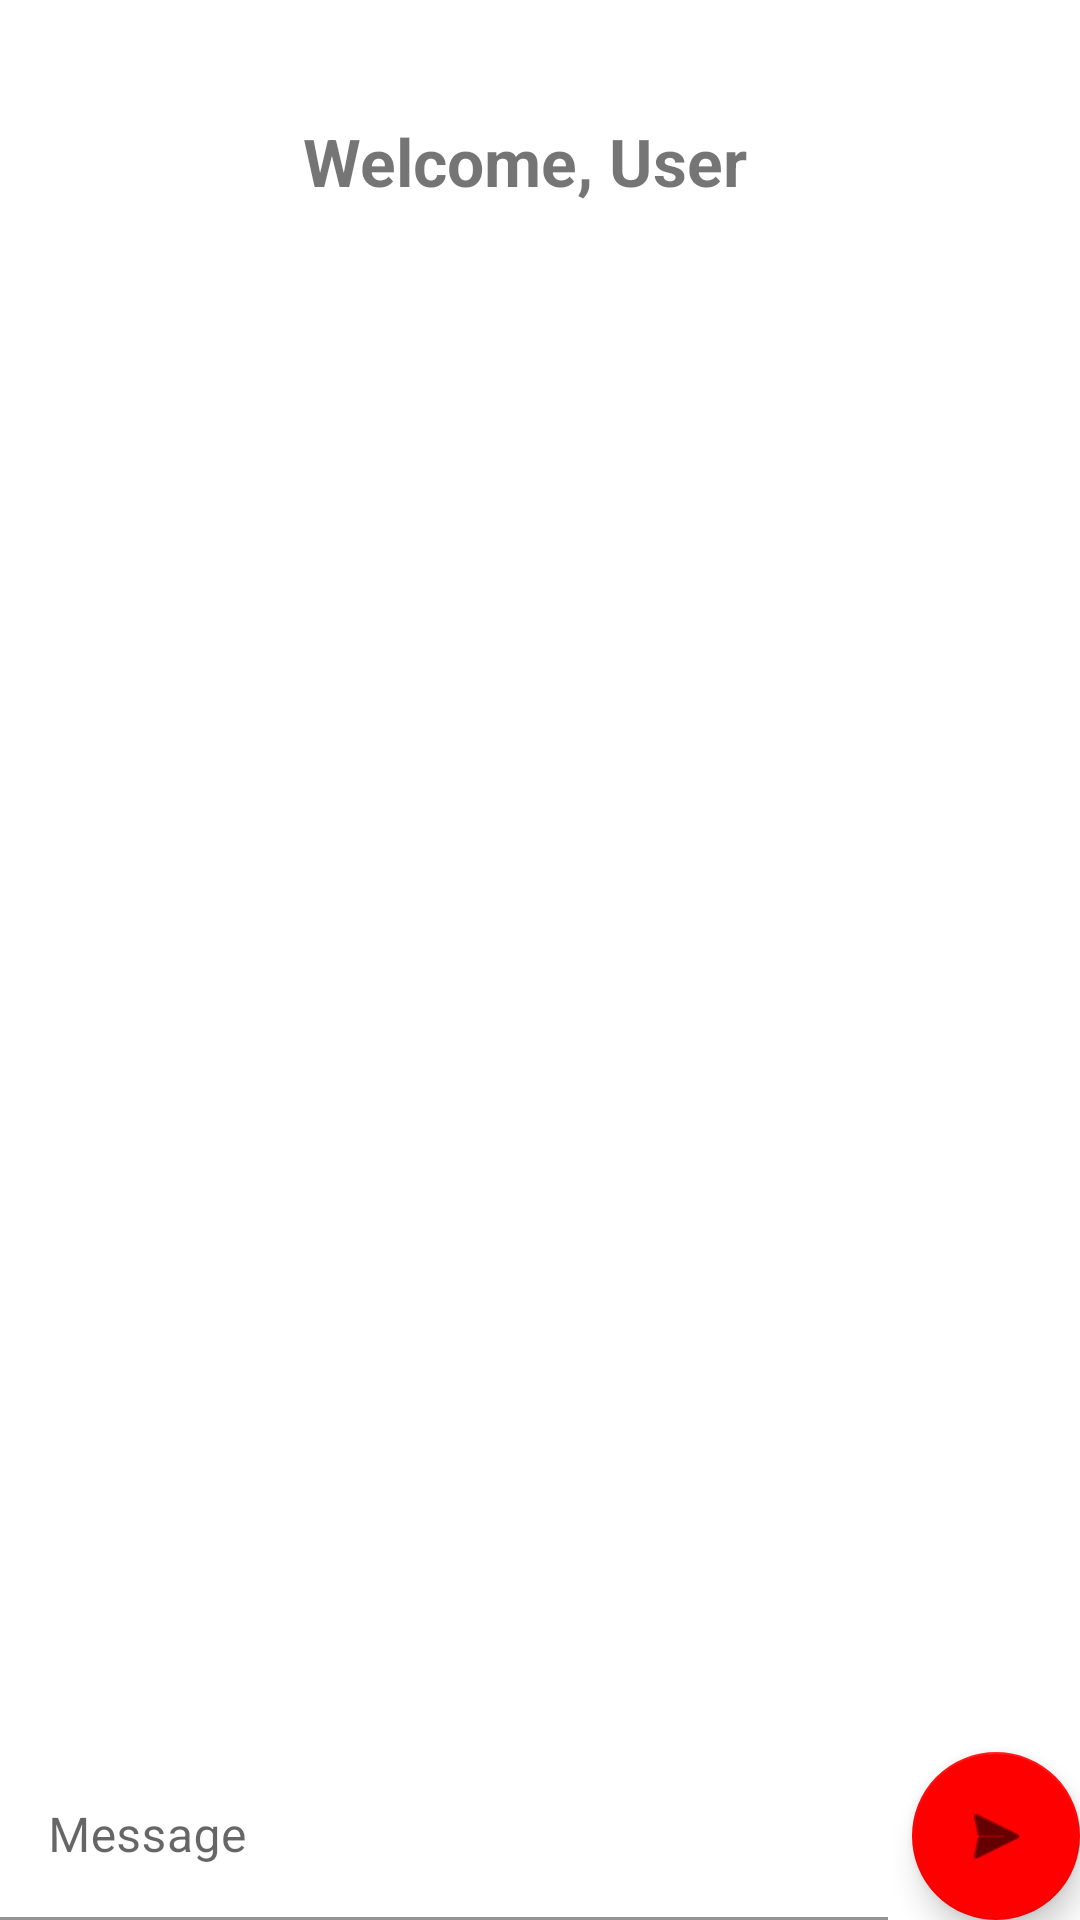

Locate icon controls on the screen. Image size 1080 x 1920, boxes as (x1, y1, x2, y2).
send: (912, 1752, 1080, 1920)
